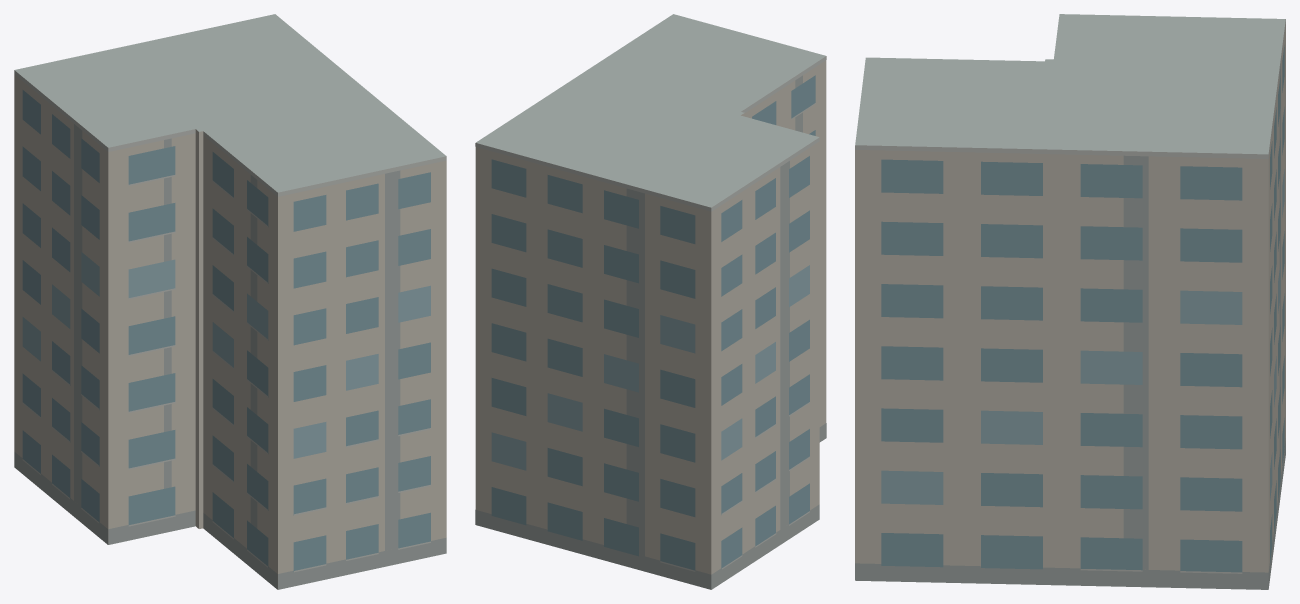
File: survey-upis-32551427.glb
3 views of the same model, side by side, from view 1: azimuth 30°, elevation 25°; view 2: azimuth 150°, elevation 25°; view 3: azimuth 270°, elevation 25° (orthographic). The views are drawn at different scales.
Parts seen in each view (by area): view 1: survey-upis-32551427.tmp; view 2: survey-upis-32551427.tmp; view 3: survey-upis-32551427.tmp.
Part boxes in pixels (x1,y1,x2,y2): survey-upis-32551427.tmp: [14, 14, 446, 589]; survey-upis-32551427.tmp: [475, 14, 826, 589]; survey-upis-32551427.tmp: [855, 14, 1285, 589].
Bounding box in the file's own units: 15.91 × 23 × 20.62.
